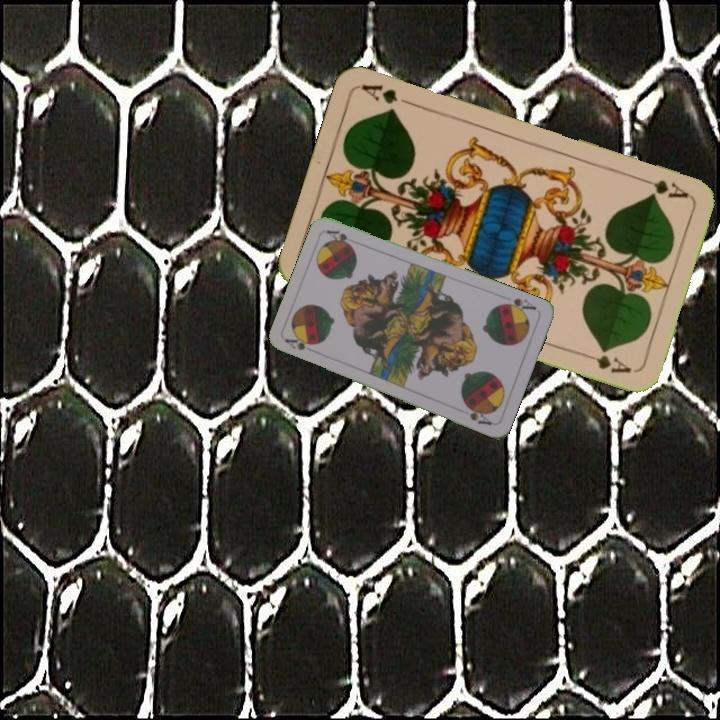GA: (634, 173, 691, 201)
SA: (498, 294, 539, 316), (281, 335, 311, 353)
